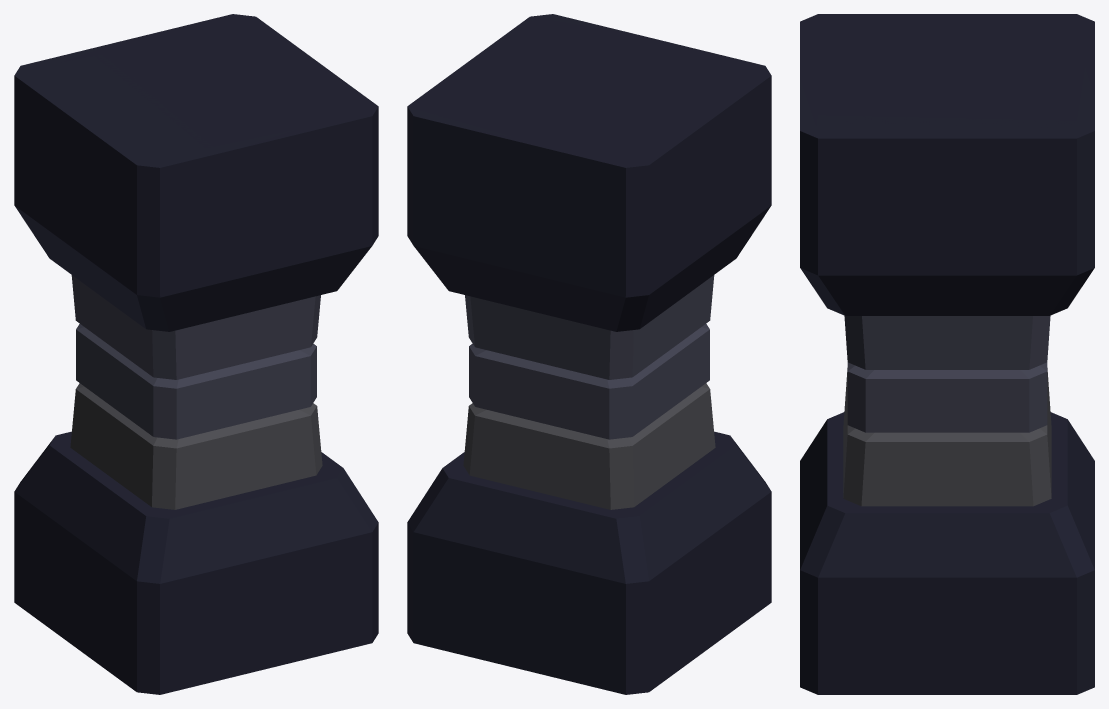
Rendered from Column_Small.fbx.
3 views of the same model, side by side, from view 1: azimuth 30°, elevation 25°; view 2: azimuth 150°, elevation 25°; view 3: azimuth 270°, elevation 25° (orthographic). The views are drawn at different scales.
Visible parts, largest first — view 1: 1-Column_Small; view 2: 1-Column_Small; view 3: 1-Column_Small.
Part boxes in pixels (<box>): 1-Column_Small: <box>14,14,378,694</box>; 1-Column_Small: <box>407,14,771,694</box>; 1-Column_Small: <box>800,14,1094,694</box>.
Bounding box in the file's own units: 1.44 × 1.44 × 3.
